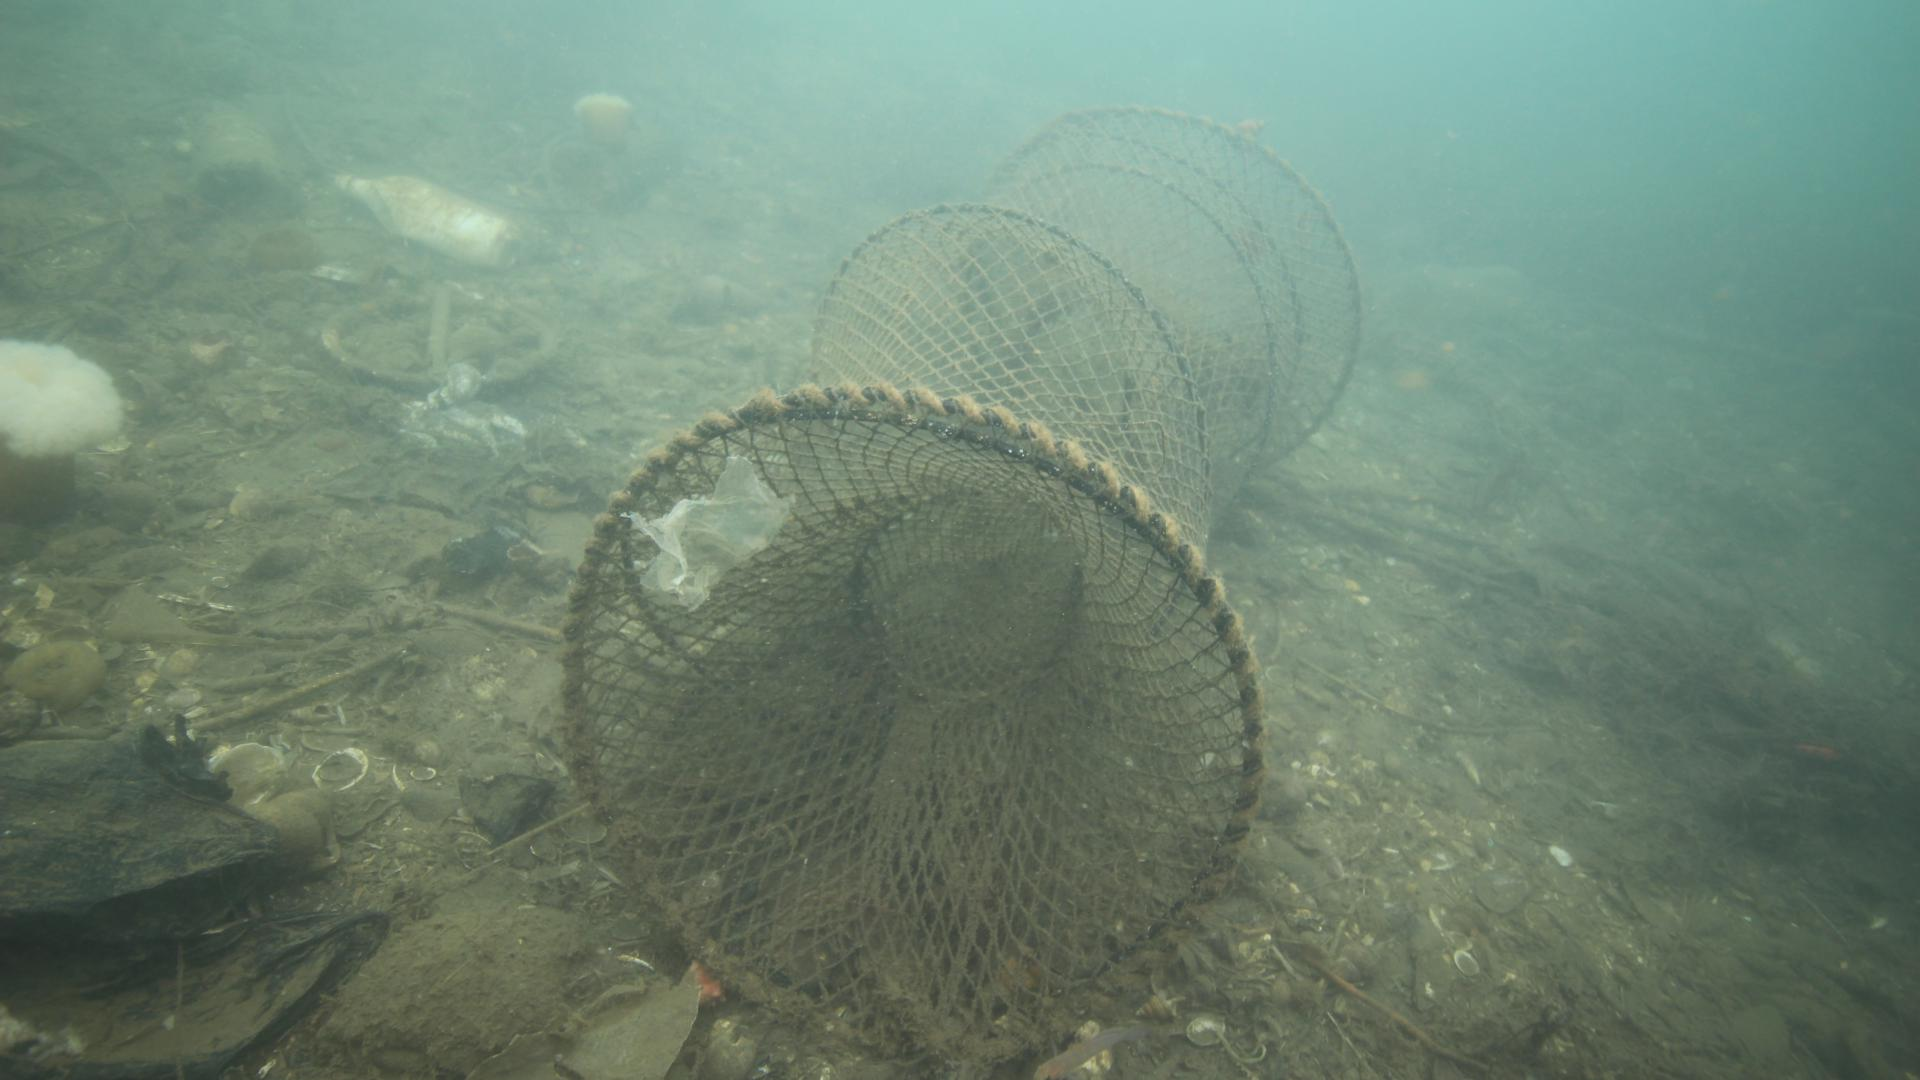spring fish trap: (558, 103, 1364, 1054)
